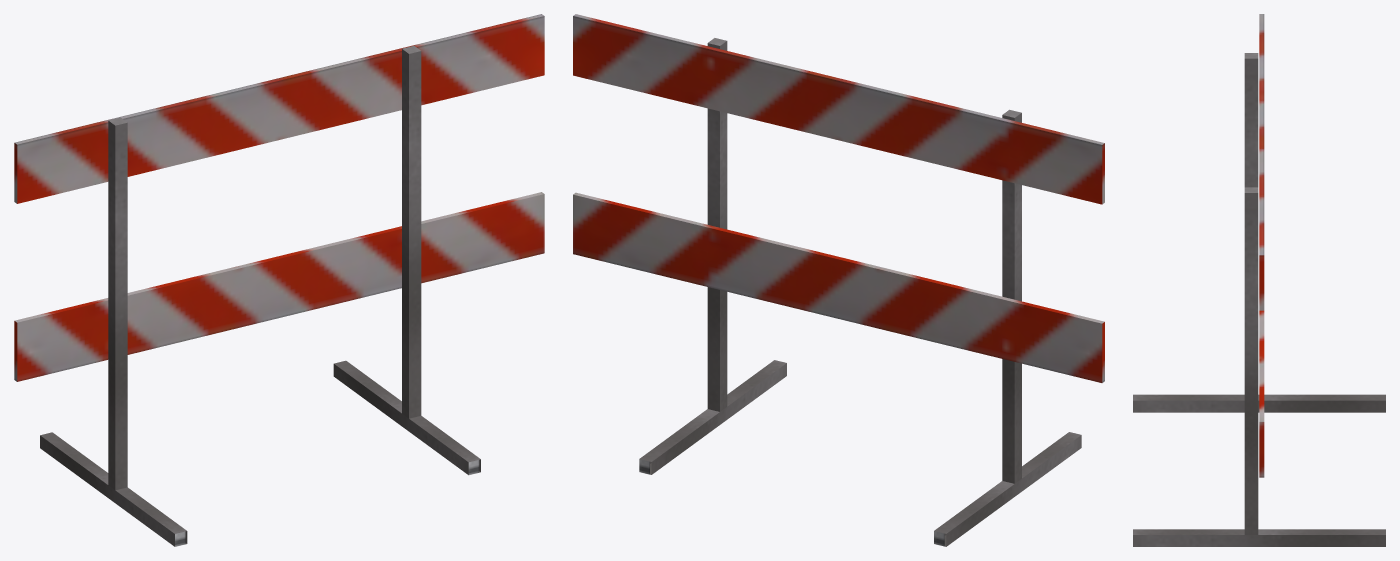
Rendered from Urban_Type3Barrier2Planks_Model.fbx.
3 views of the same model, side by side, from view 1: azimuth 30°, elevation 25°; view 2: azimuth 150°, elevation 25°; view 3: azimuth 270°, elevation 25° (orthographic). The views are drawn at different scales.
Parts seen in each view (by area): view 1: Urban_Type3Barrier2Planks_Mesh; view 2: Urban_Type3Barrier2Planks_Mesh; view 3: Urban_Type3Barrier2Planks_Mesh.
Boxes of the visible parts, left/top/right/bottom form: Urban_Type3Barrier2Planks_Mesh: left=14, top=14, right=544, bottom=546; Urban_Type3Barrier2Planks_Mesh: left=573, top=14, right=1104, bottom=546; Urban_Type3Barrier2Planks_Mesh: left=1133, top=14, right=1385, bottom=546.
Size of the model in its own units: 2.18 by 1.49 by 0.967.
